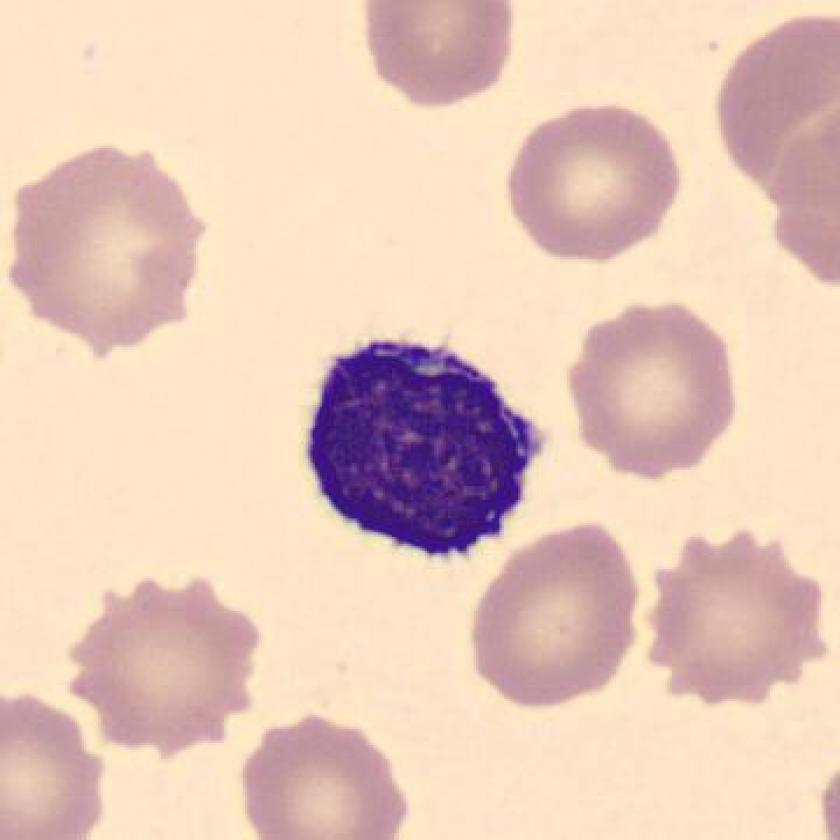lymphocyte: (283, 314, 561, 584)
